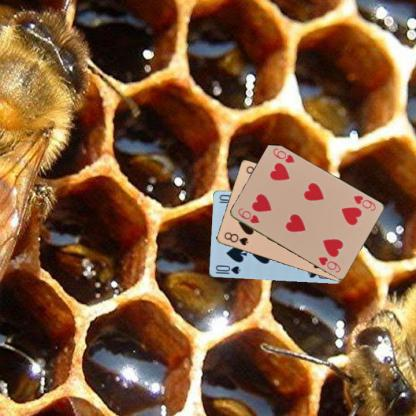10s: (213, 263, 242, 275)
6h: (351, 193, 377, 213), (235, 205, 260, 225)
8s: (221, 229, 249, 247)
